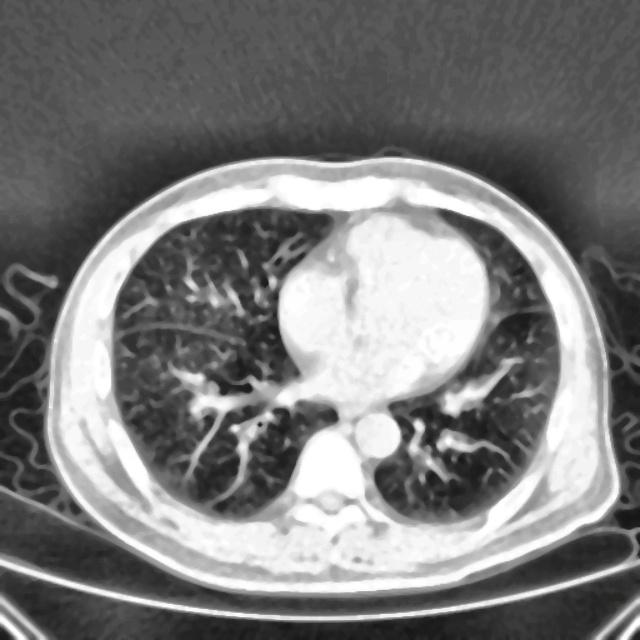covid: (44, 153, 621, 595)
